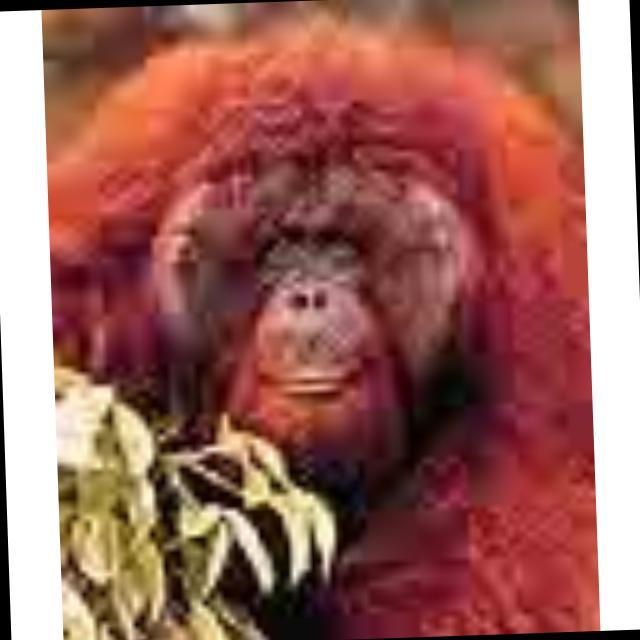Orangutan: (68, 37, 576, 637)
